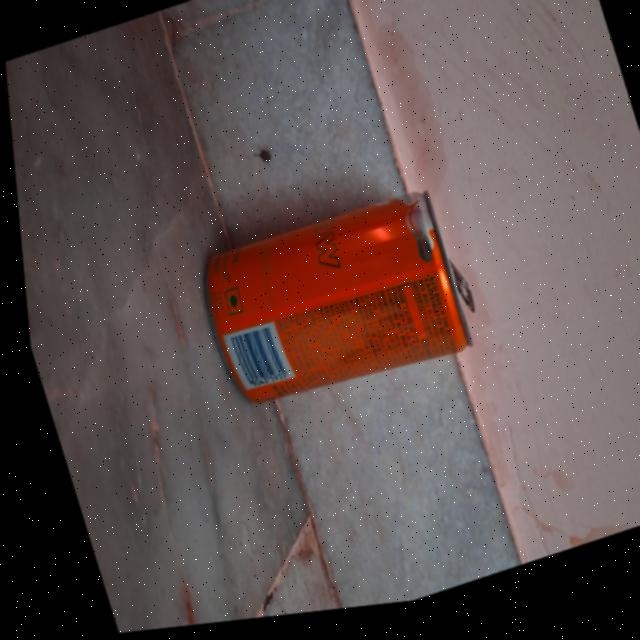Redbull Summer Edition: (177, 177, 489, 438)
